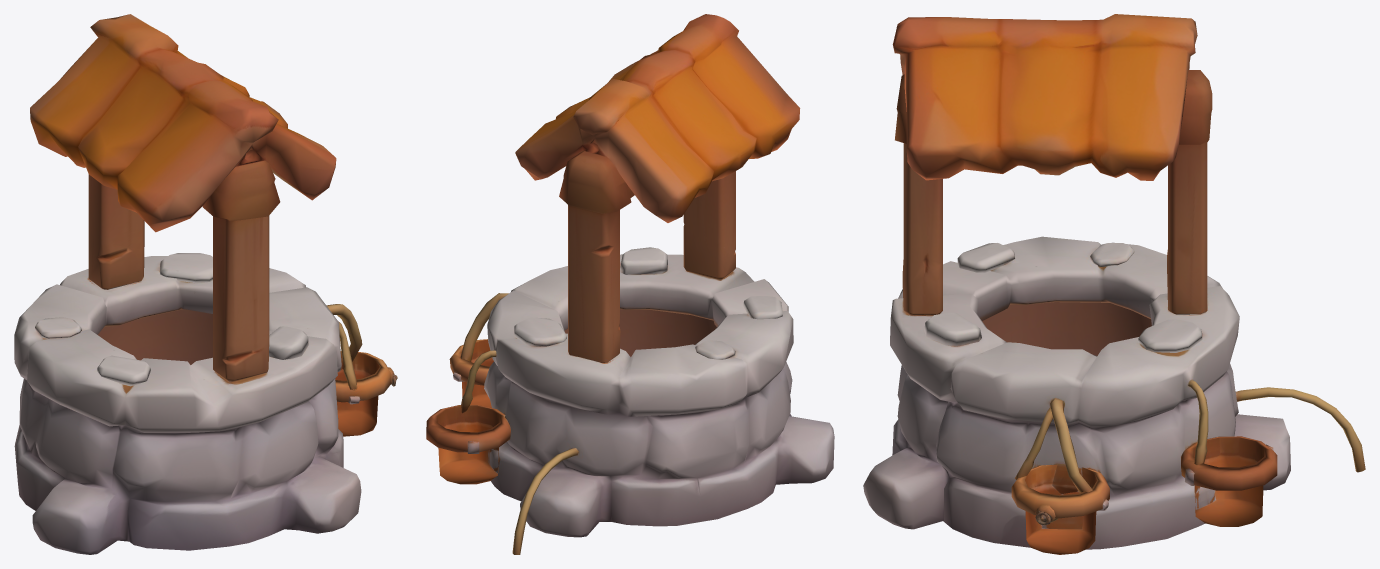
3 views of the same model, side by side, from view 1: azimuth 30°, elevation 25°; view 2: azimuth 150°, elevation 25°; view 3: azimuth 270°, elevation 25° (orthographic). The views are drawn at different scales.
Visible parts, largest first — view 1: tripo_node_1675d699-bcd6-4a04-890f-fe11abd997b6; view 2: tripo_node_1675d699-bcd6-4a04-890f-fe11abd997b6; view 3: tripo_node_1675d699-bcd6-4a04-890f-fe11abd997b6.
Boxes of the visible parts, x1,y1,x2,y2 form: tripo_node_1675d699-bcd6-4a04-890f-fe11abd997b6: (14, 14, 397, 554); tripo_node_1675d699-bcd6-4a04-890f-fe11abd997b6: (426, 14, 834, 554); tripo_node_1675d699-bcd6-4a04-890f-fe11abd997b6: (863, 14, 1365, 554).
Size of the model in its own units: 0.9199 by 0.998 by 0.998.
Materials: 1 (1 with a texture image).
